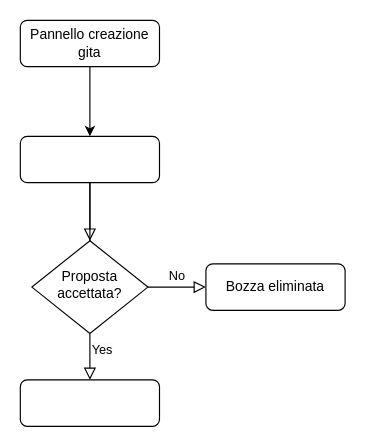
Image size: 365x447. Some labels were removed from this diagram. Each missing label, with the centre of its shape:
invio proposta all'admin: point (89, 159)
Nuova gita inserita: point (89, 402)
